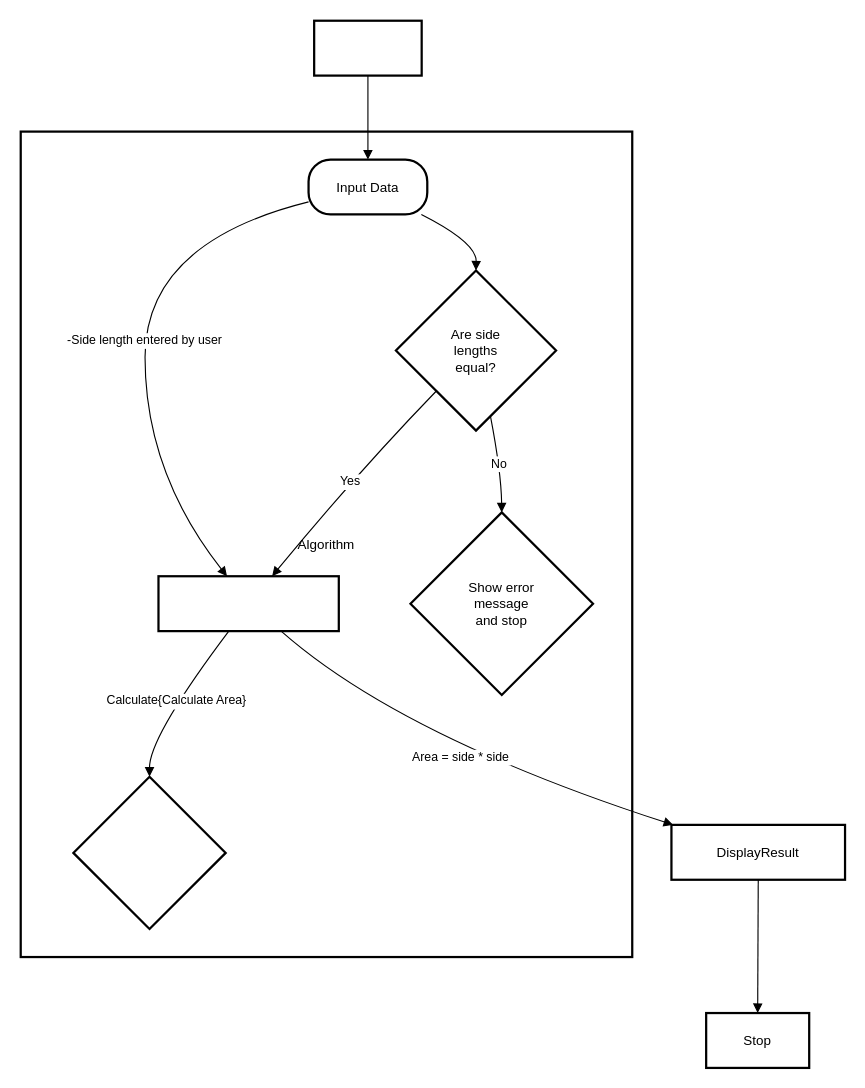
This 865x1088 diagram has some shape labels left out. The centre of each missing label's shape, as x and y in pixels:
CalculateArea: the point at 248,603
Start: the point at 367,47
Store Result: the point at 149,852
